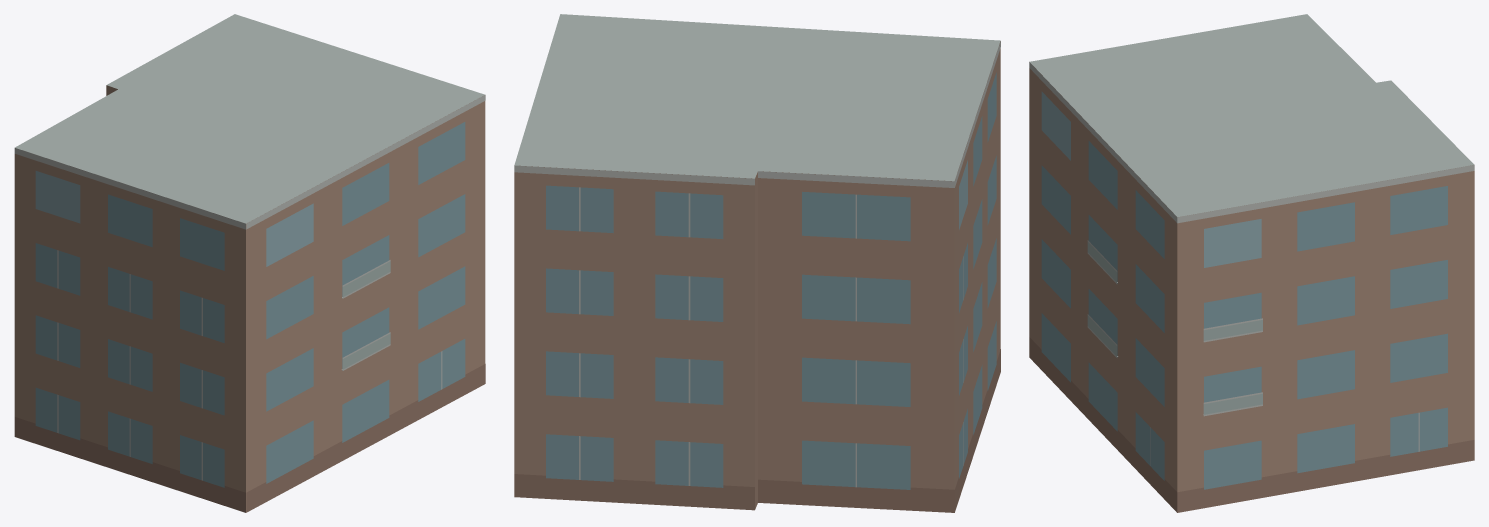
The model's file is survey-upis-32844433.glb.
3 renders of one model, left to right at view 1: azimuth 30°, elevation 25°; view 2: azimuth 150°, elevation 25°; view 3: azimuth 270°, elevation 25°, orthographic. The views are drawn at different scales.
Visible parts, largest first — view 1: survey-upis-32844433.tmp; view 2: survey-upis-32844433.tmp; view 3: survey-upis-32844433.tmp.
Boxes of the visible parts, x1,y1,x2,y2 form: survey-upis-32844433.tmp: [14, 14, 485, 512]; survey-upis-32844433.tmp: [514, 14, 1000, 512]; survey-upis-32844433.tmp: [1029, 14, 1474, 512].
Size of the model in its own units: 17.4 by 11.8 by 16.11.
